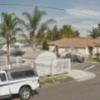cars: (0, 65, 40, 100)
